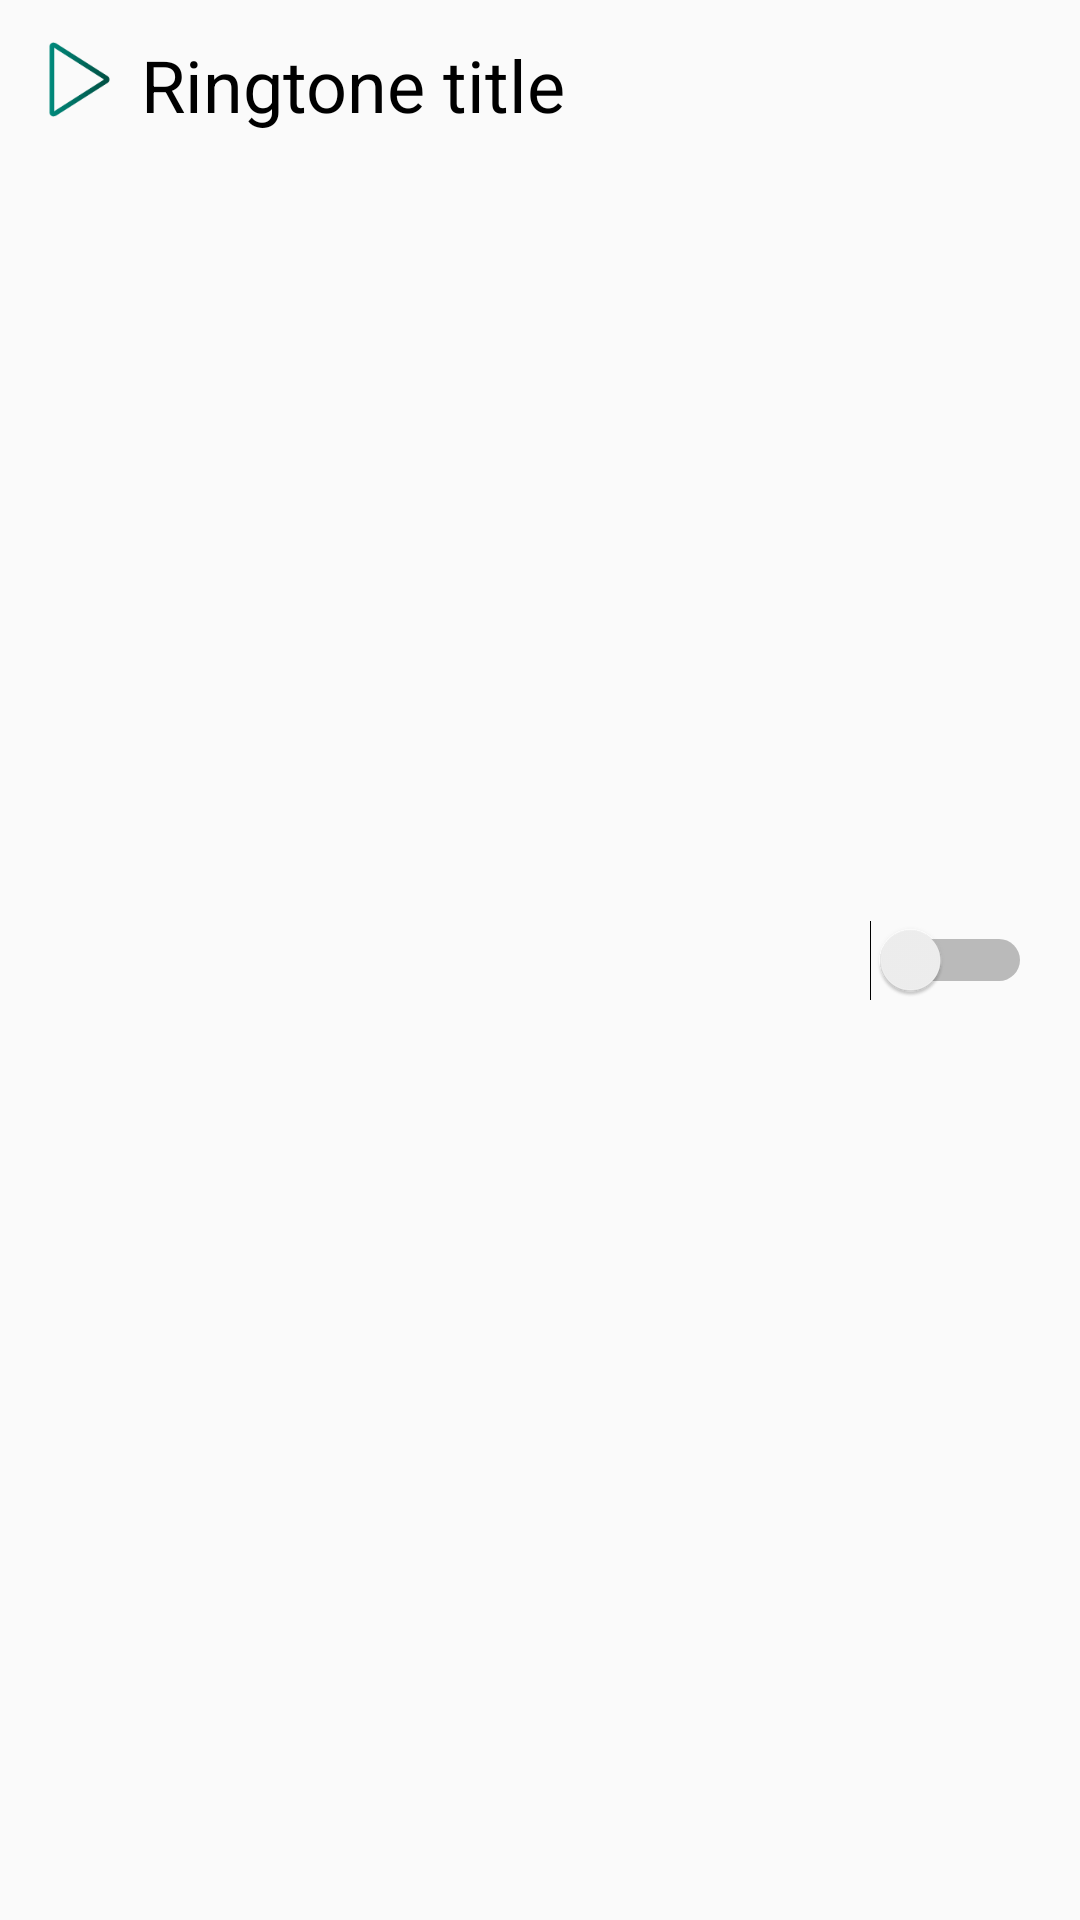

Icons on this 1080px x 1920px Android screen, each with the point to tap as (x,y):
Play: (79,79)
